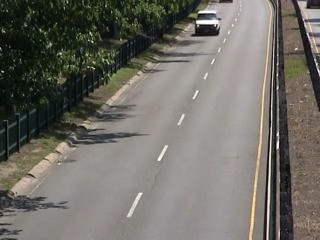truck: (192, 9, 223, 38)
